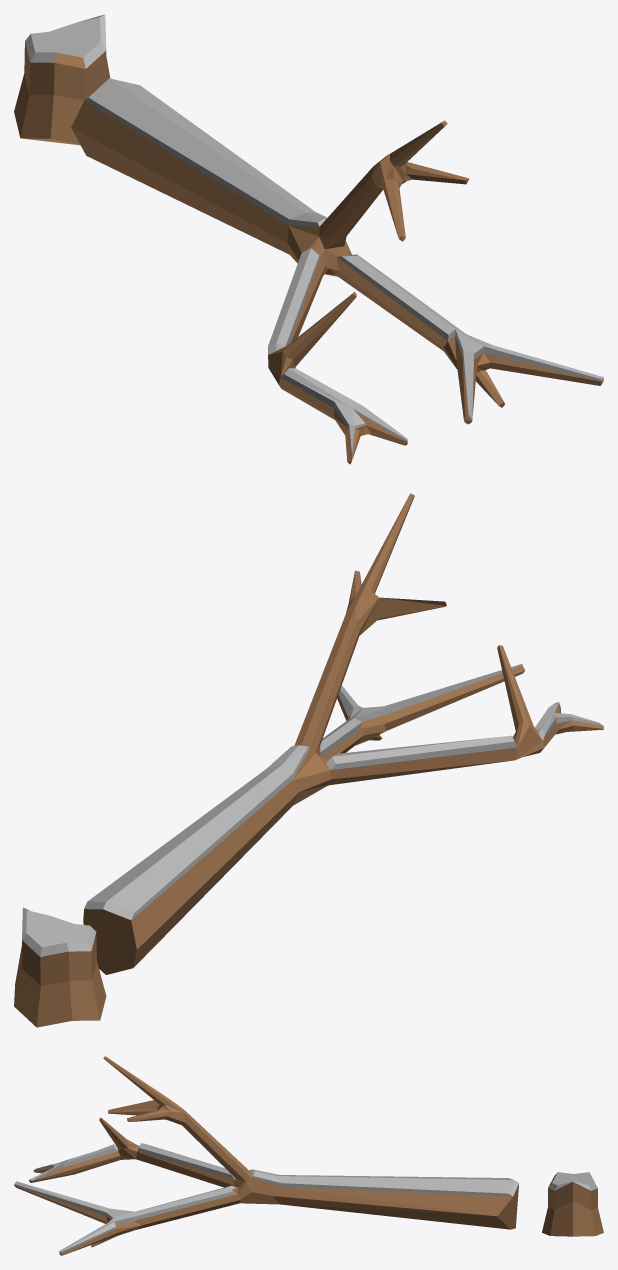
Rendered from Tree_1 Broken Winterfbx.fbx.
The picture shows the model from 3 angles, top to bottom: view 1: azimuth 30°, elevation 25°; view 2: azimuth 150°, elevation 25°; view 3: azimuth 270°, elevation 25°; orthographic projection. The views are drawn at different scales.
Visible parts, largest first — view 1: TreeBrokenWinter_mesh; view 2: TreeBrokenWinter_mesh; view 3: TreeBrokenWinter_mesh.
Part boxes in pixels (x1,y1,x2,y2): TreeBrokenWinter_mesh: [14, 14, 603, 464]; TreeBrokenWinter_mesh: [14, 493, 603, 1027]; TreeBrokenWinter_mesh: [14, 1056, 603, 1255].
Size of the model in its own units: 216 by 215 by 648.
